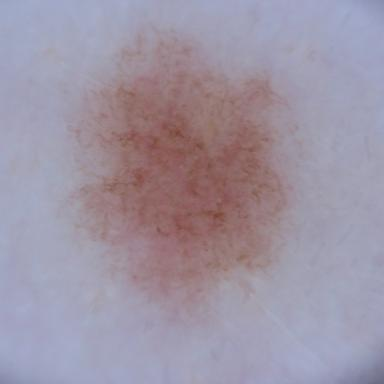nevus: (72, 30, 291, 321)
